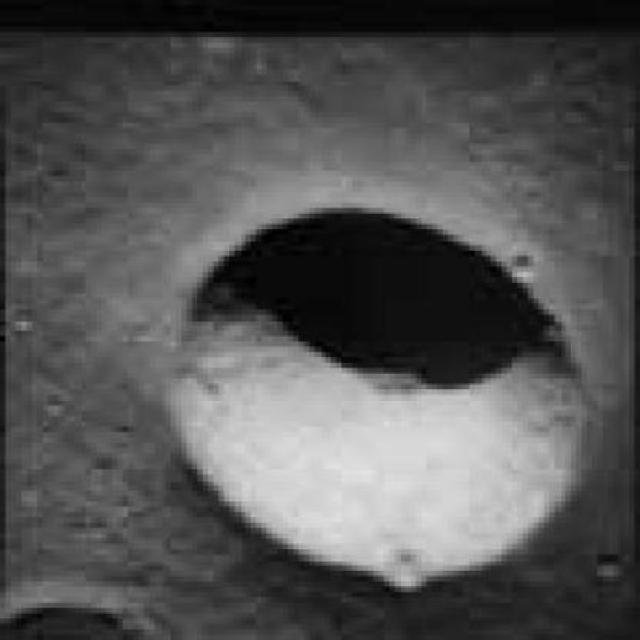crater: (166, 209, 603, 585)
